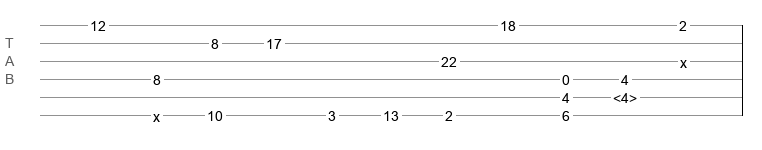0: (562, 72, 570, 82)
10: (207, 108, 223, 118)
12: (90, 18, 106, 28)
13: (383, 108, 399, 118)
17: (266, 36, 282, 46)
18: (500, 18, 516, 28)
2: (445, 108, 453, 118), (679, 18, 687, 28)
22: (441, 54, 457, 64)
3: (328, 108, 336, 118)
4: (562, 90, 570, 100), (621, 72, 629, 82)
6: (562, 108, 570, 118)
8: (153, 72, 161, 82), (211, 36, 219, 46)
harmonic: (613, 90, 637, 100)
x: (153, 109, 160, 117), (680, 55, 687, 63)
